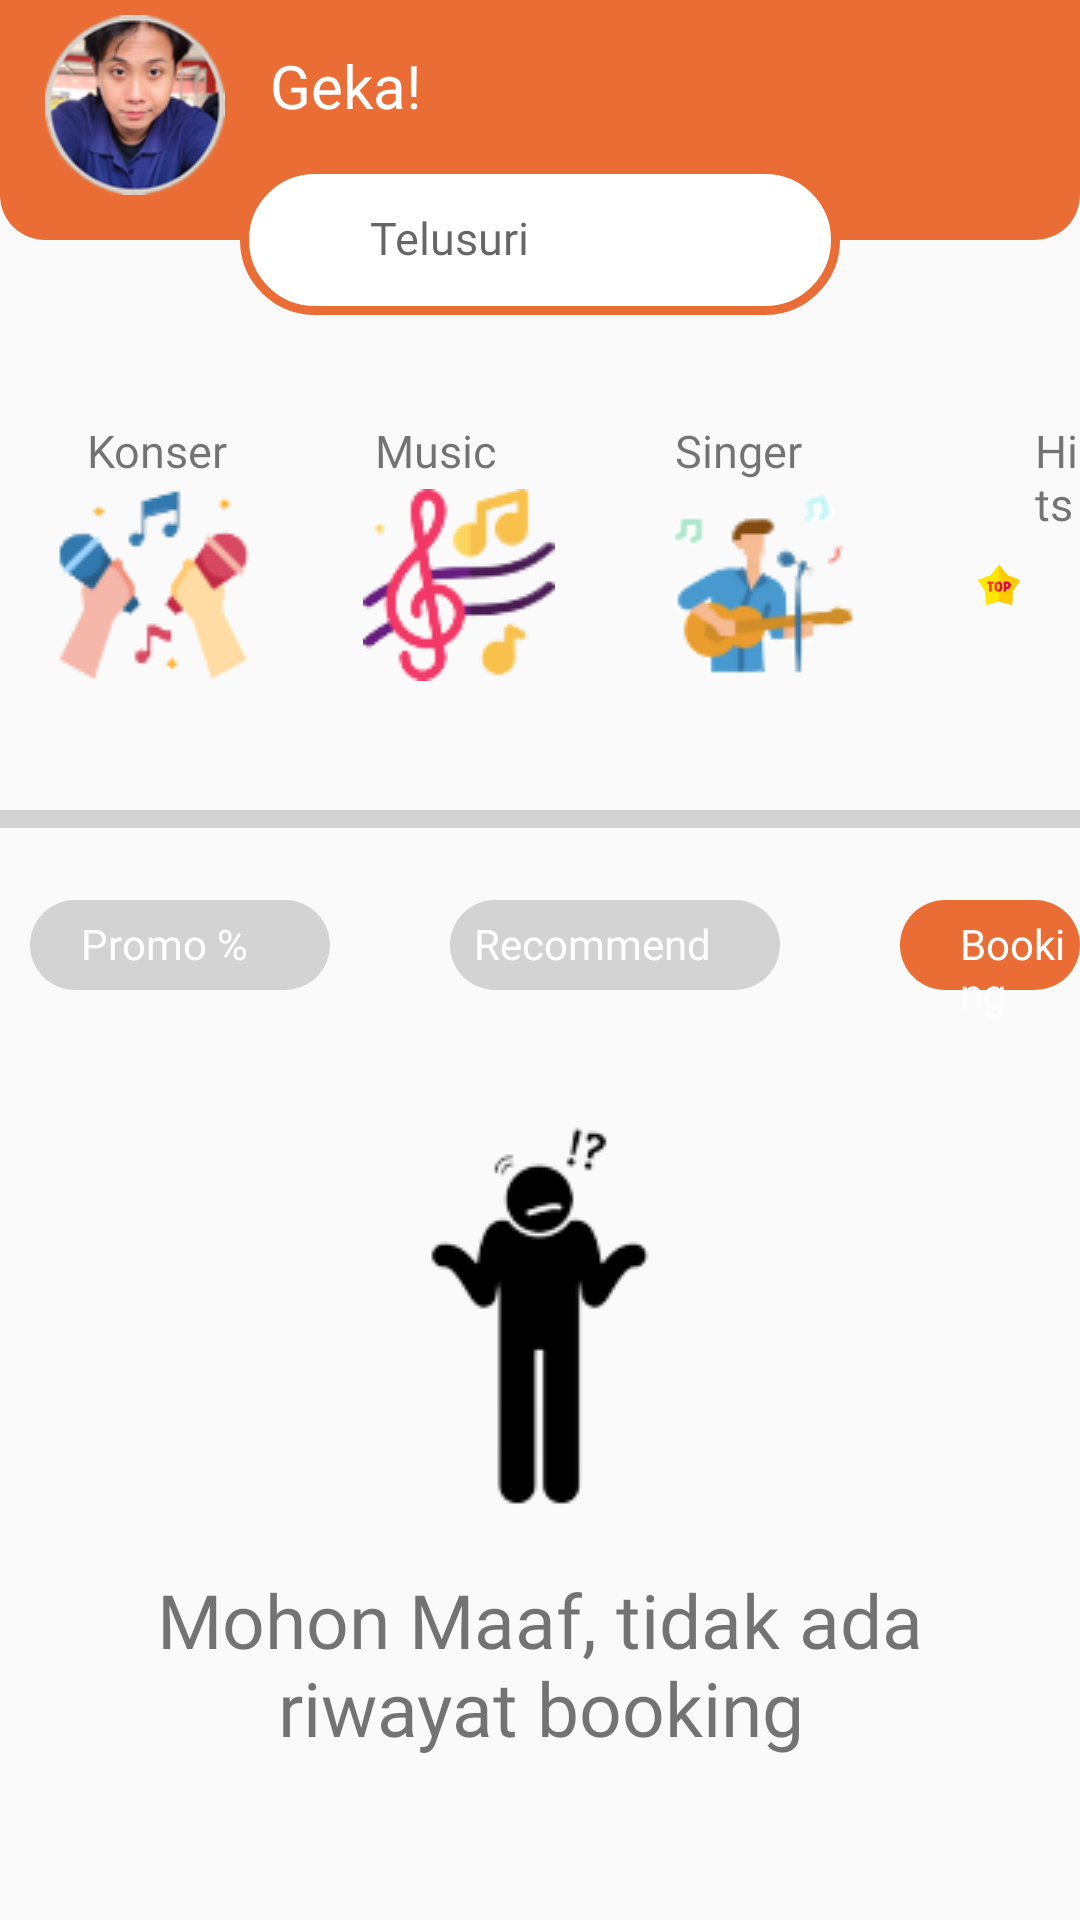

Where icons sit on this 1080*1920 app screen, as box(x1, y1, x2, y2):
profile: box(45, 15, 225, 195)
